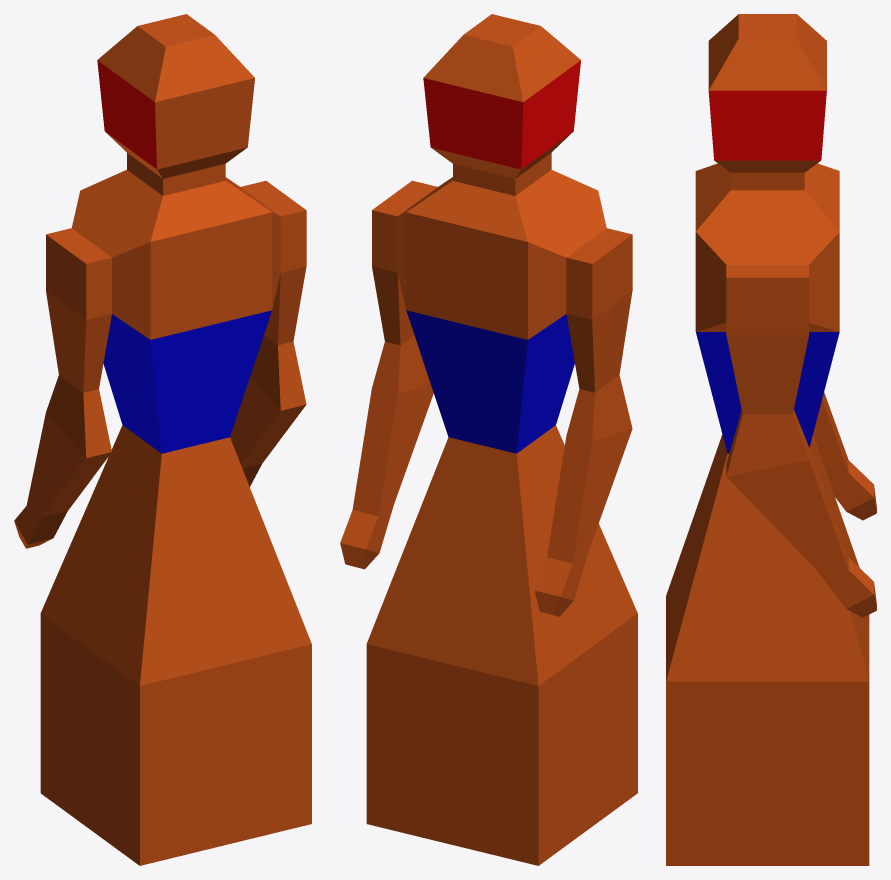
File: robot.obj
3 renders of one model, left to right at view 1: azimuth 30°, elevation 25°; view 2: azimuth 150°, elevation 25°; view 3: azimuth 270°, elevation 25°, orthographic. The views are drawn at different scales.
Visible parts, largest first — view 1: Robot; view 2: Robot; view 3: Robot.
Part boxes in pixels (left/top/right/bottom): Robot: left=14, top=14, right=311, bottom=865; Robot: left=340, top=14, right=637, bottom=865; Robot: left=666, top=14, right=876, bottom=865.
Size of the model in its own units: 2.56 by 8.65 by 2.07.
